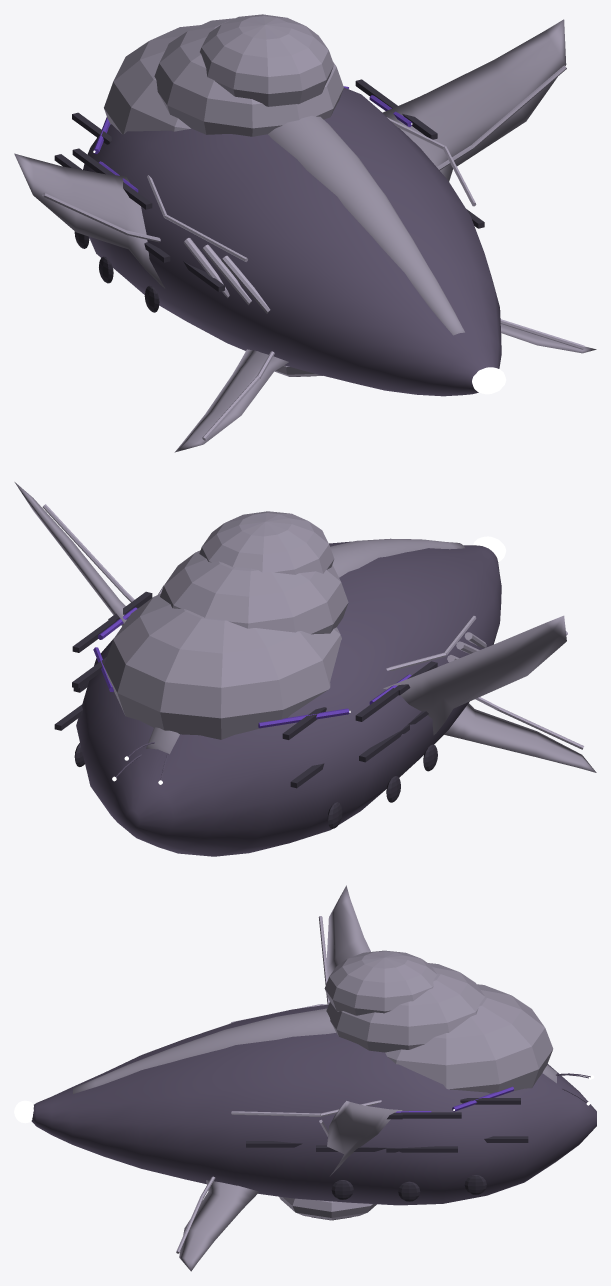
The picture shows the model from 3 angles, top to bottom: view 1: azimuth 30°, elevation 25°; view 2: azimuth 150°, elevation 25°; view 3: azimuth 270°, elevation 25°; orthographic projection. The views are drawn at different scales.
Visible parts, largest first — view 1: RIMWARD_HULL, RIMWARD_ENGINE_GLOW; view 2: RIMWARD_HULL; view 3: RIMWARD_HULL.
Part boxes in pixels (<box>): RIMWARD_HULL: <box>14,14,596,452</box>; RIMWARD_ENGINE_GLOW: <box>472,367,506,394</box>; RIMWARD_HULL: <box>14,482,596,856</box>; RIMWARD_HULL: <box>31,885,596,1271</box>.
Size of the model in its own units: 13.8 by 7.61 by 15.78.
